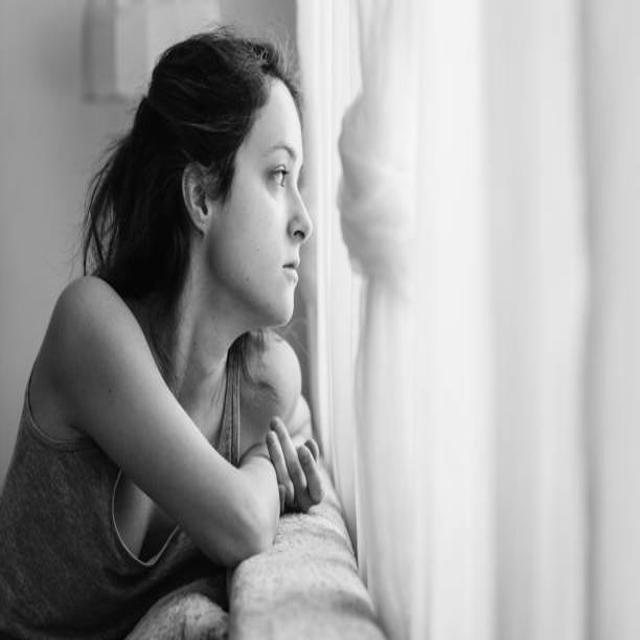Sadness: (211, 76, 316, 329)
